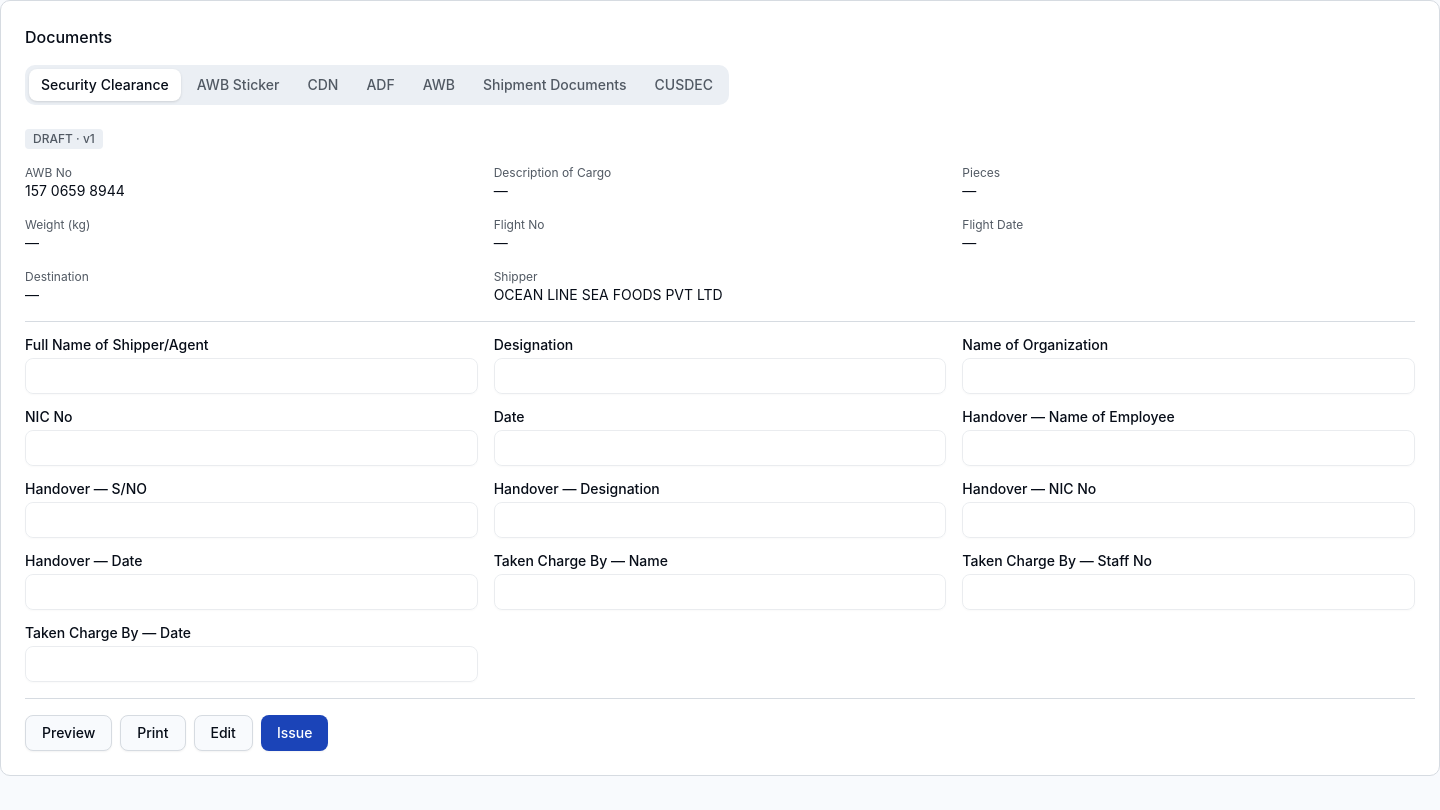
it: DocumentsSection › switches to the ADF tab: an upload-only document, not the generate/edit/issue flow
Expected: the button "Issue" is shown, [261, 715, 328, 751]
Click the button "ADF".
click(381, 85)  # box [354, 69, 407, 101]
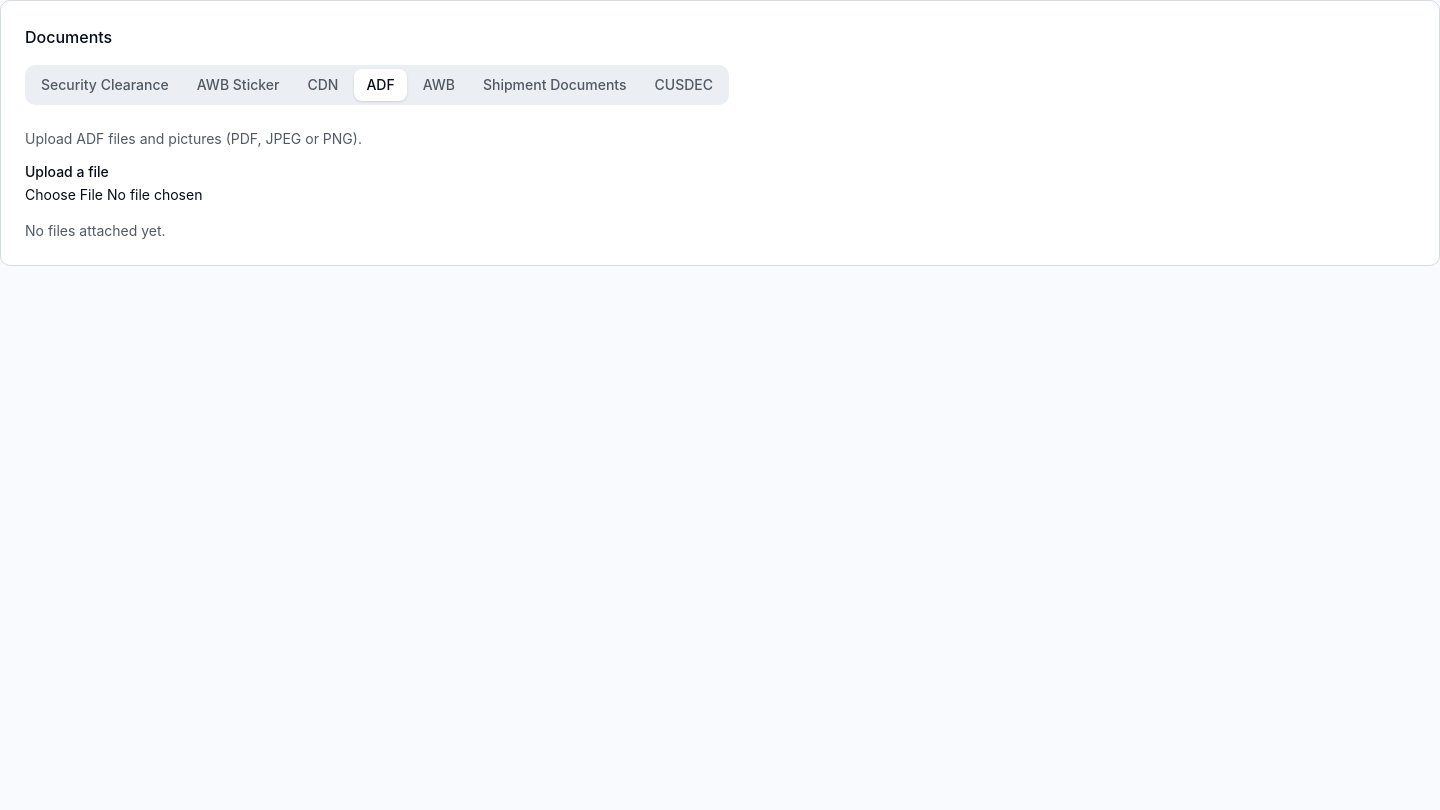
Result: the text "No files attached yet." is shown at [25, 222, 166, 239]
Result: the button "Print" is gone
Result: the button "Issue" is gone
